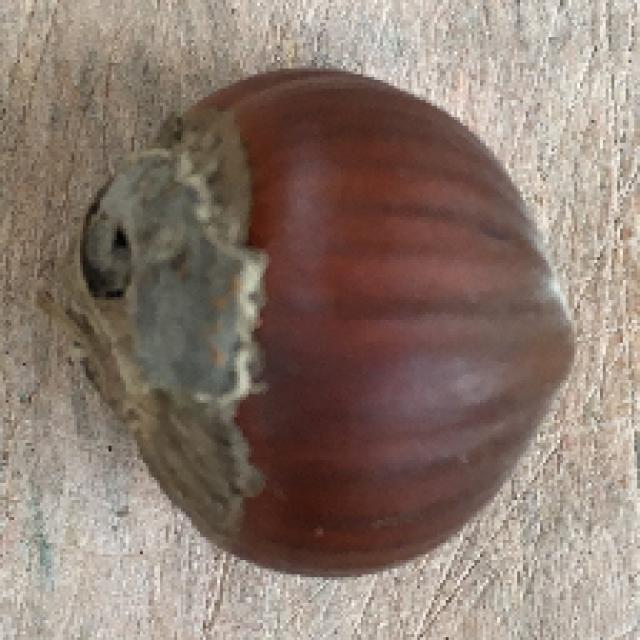damagedHazelnut: (82, 65, 578, 585)
